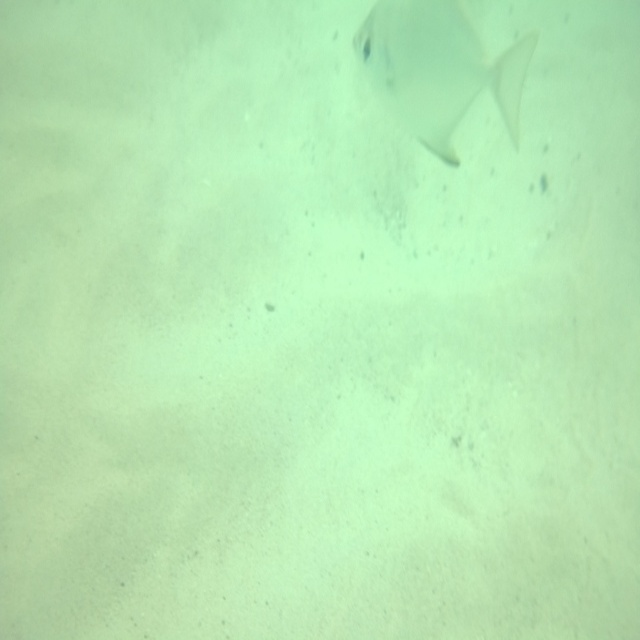Fish: (347, 0, 536, 163)
